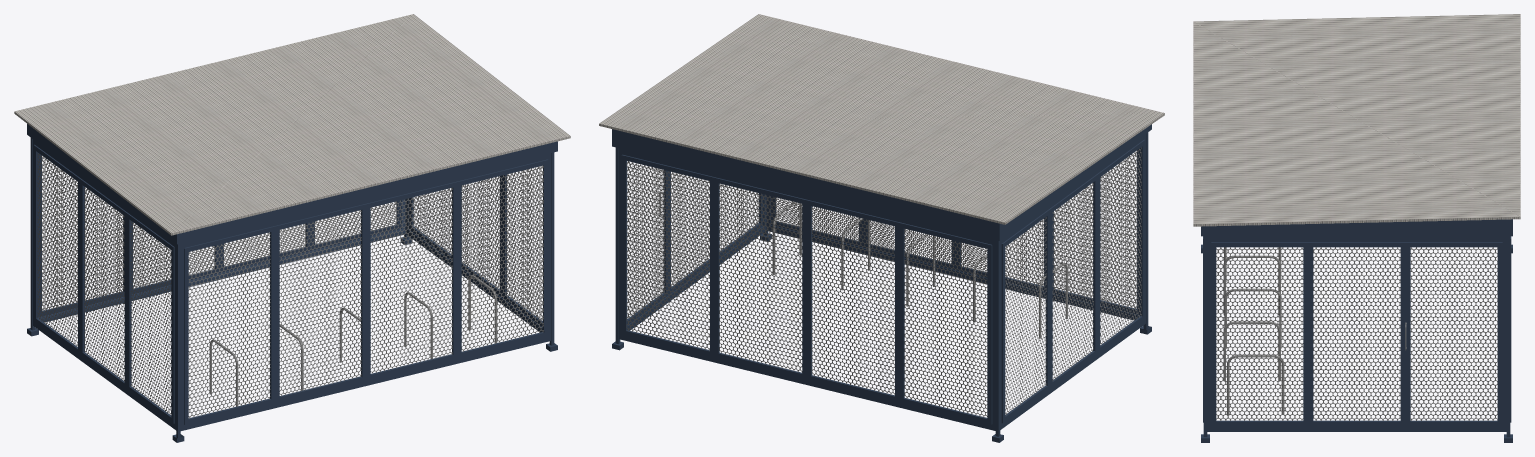
Rendered from StationProps-A.fbx.
3 renders of one model, left to right at view 1: azimuth 30°, elevation 25°; view 2: azimuth 150°, elevation 25°; view 3: azimuth 270°, elevation 25°, orthographic. The views are drawn at different scales.
Parts seen in each view (by area): view 1: StationProps-A; view 2: StationProps-A; view 3: StationProps-A.
Part boxes in pixels (x1=…): StationProps-A: x1=14, y1=14, x2=570, y2=442; StationProps-A: x1=599, y1=14, x2=1164, y2=442; StationProps-A: x1=1193, y1=14, x2=1520, y2=442.
Size of the model in its own units: 7.23 by 3.83 by 4.93.
